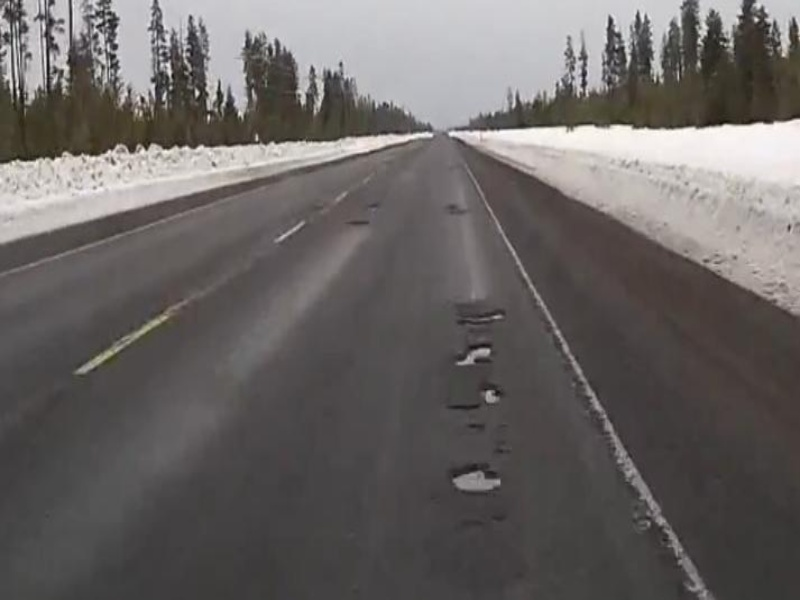pothole: (447, 460, 504, 499), (450, 342, 493, 371), (456, 307, 510, 328), (473, 381, 503, 407)
